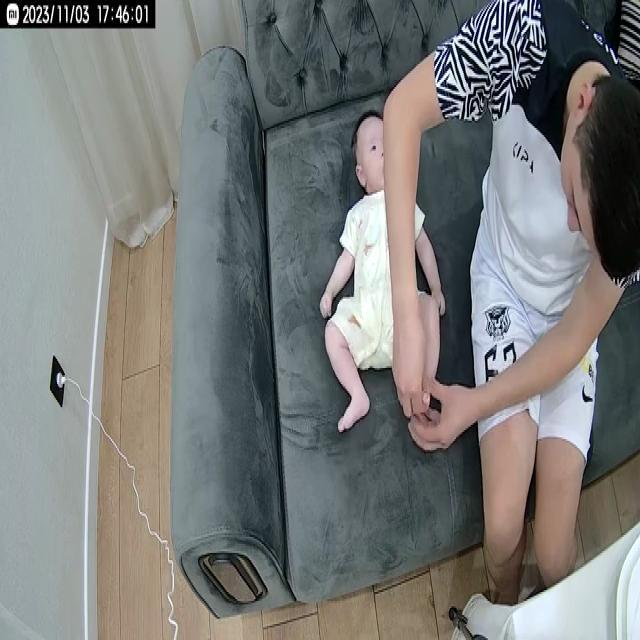baby: (318, 110, 447, 440)
